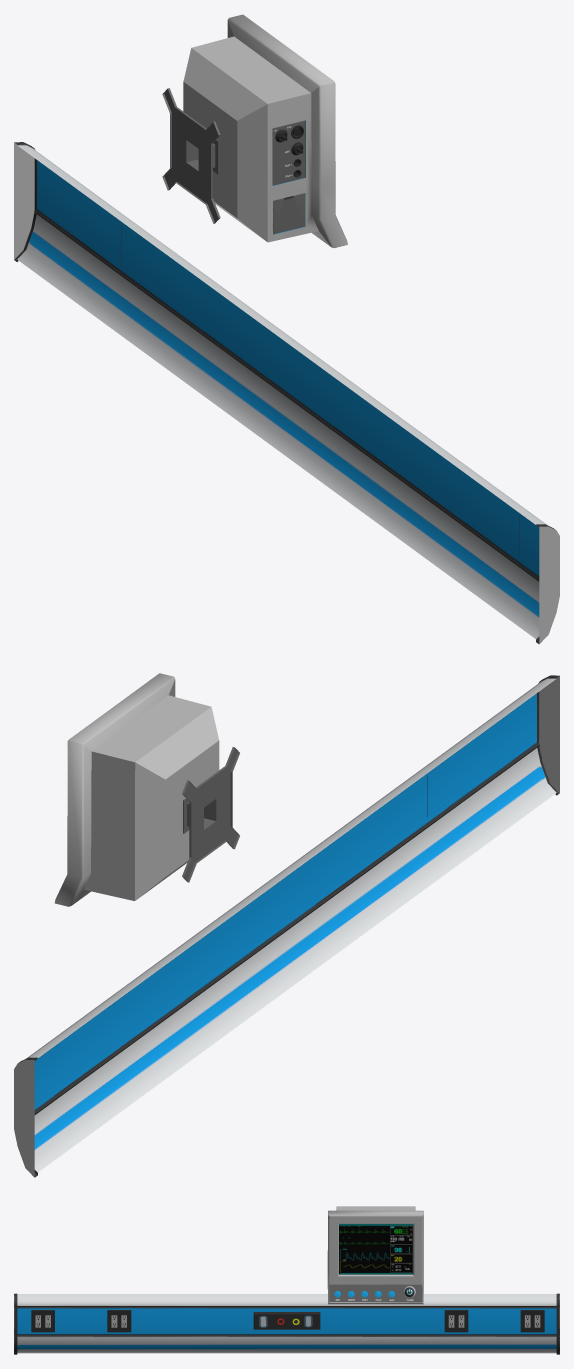
File: Monitor_Backplate.fbx
3 renders of one model, top to bottom at view 1: azimuth 30°, elevation 25°; view 2: azimuth 150°, elevation 25°; view 3: azimuth 270°, elevation 25°, orthographic. The views are drawn at different scales.
Visible parts, largest first — view 1: Panel_1, Monitor, Panel_2, ECG_Machine; view 2: Panel_1, Monitor, Panel_2, ECG_Machine; view 3: Panel_1, ECG_Machine, Panel_2, Monitor, Monitor_Display, Buttons.
Part boxes in pixels (bbox=[...]): Panel_1: bbox=[26, 160, 539, 624]; Monitor: bbox=[162, 14, 347, 247]; Panel_2: bbox=[17, 214, 539, 638]; ECG_Machine: bbox=[14, 142, 559, 644]; Panel_1: bbox=[34, 693, 547, 1158]; Monitor: bbox=[54, 673, 239, 906]; Panel_2: bbox=[34, 748, 556, 1172]; ECG_Machine: bbox=[14, 675, 559, 1177]; Panel_1: bbox=[17, 1308, 556, 1351]; ECG_Machine: bbox=[14, 1293, 559, 1354]; Panel_2: bbox=[17, 1336, 556, 1353]; Monitor: bbox=[327, 1206, 423, 1304]; Monitor_Display: bbox=[339, 1224, 412, 1274]; Buttons: bbox=[334, 1286, 415, 1298].
Bounding box in the file's own units: 33.68 × 91.19 × 273.
